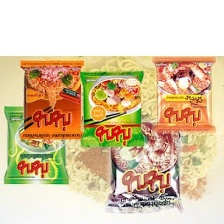snack: (99, 118, 188, 219), (14, 56, 88, 145), (0, 101, 72, 190), (74, 67, 148, 152), (146, 55, 221, 137)
